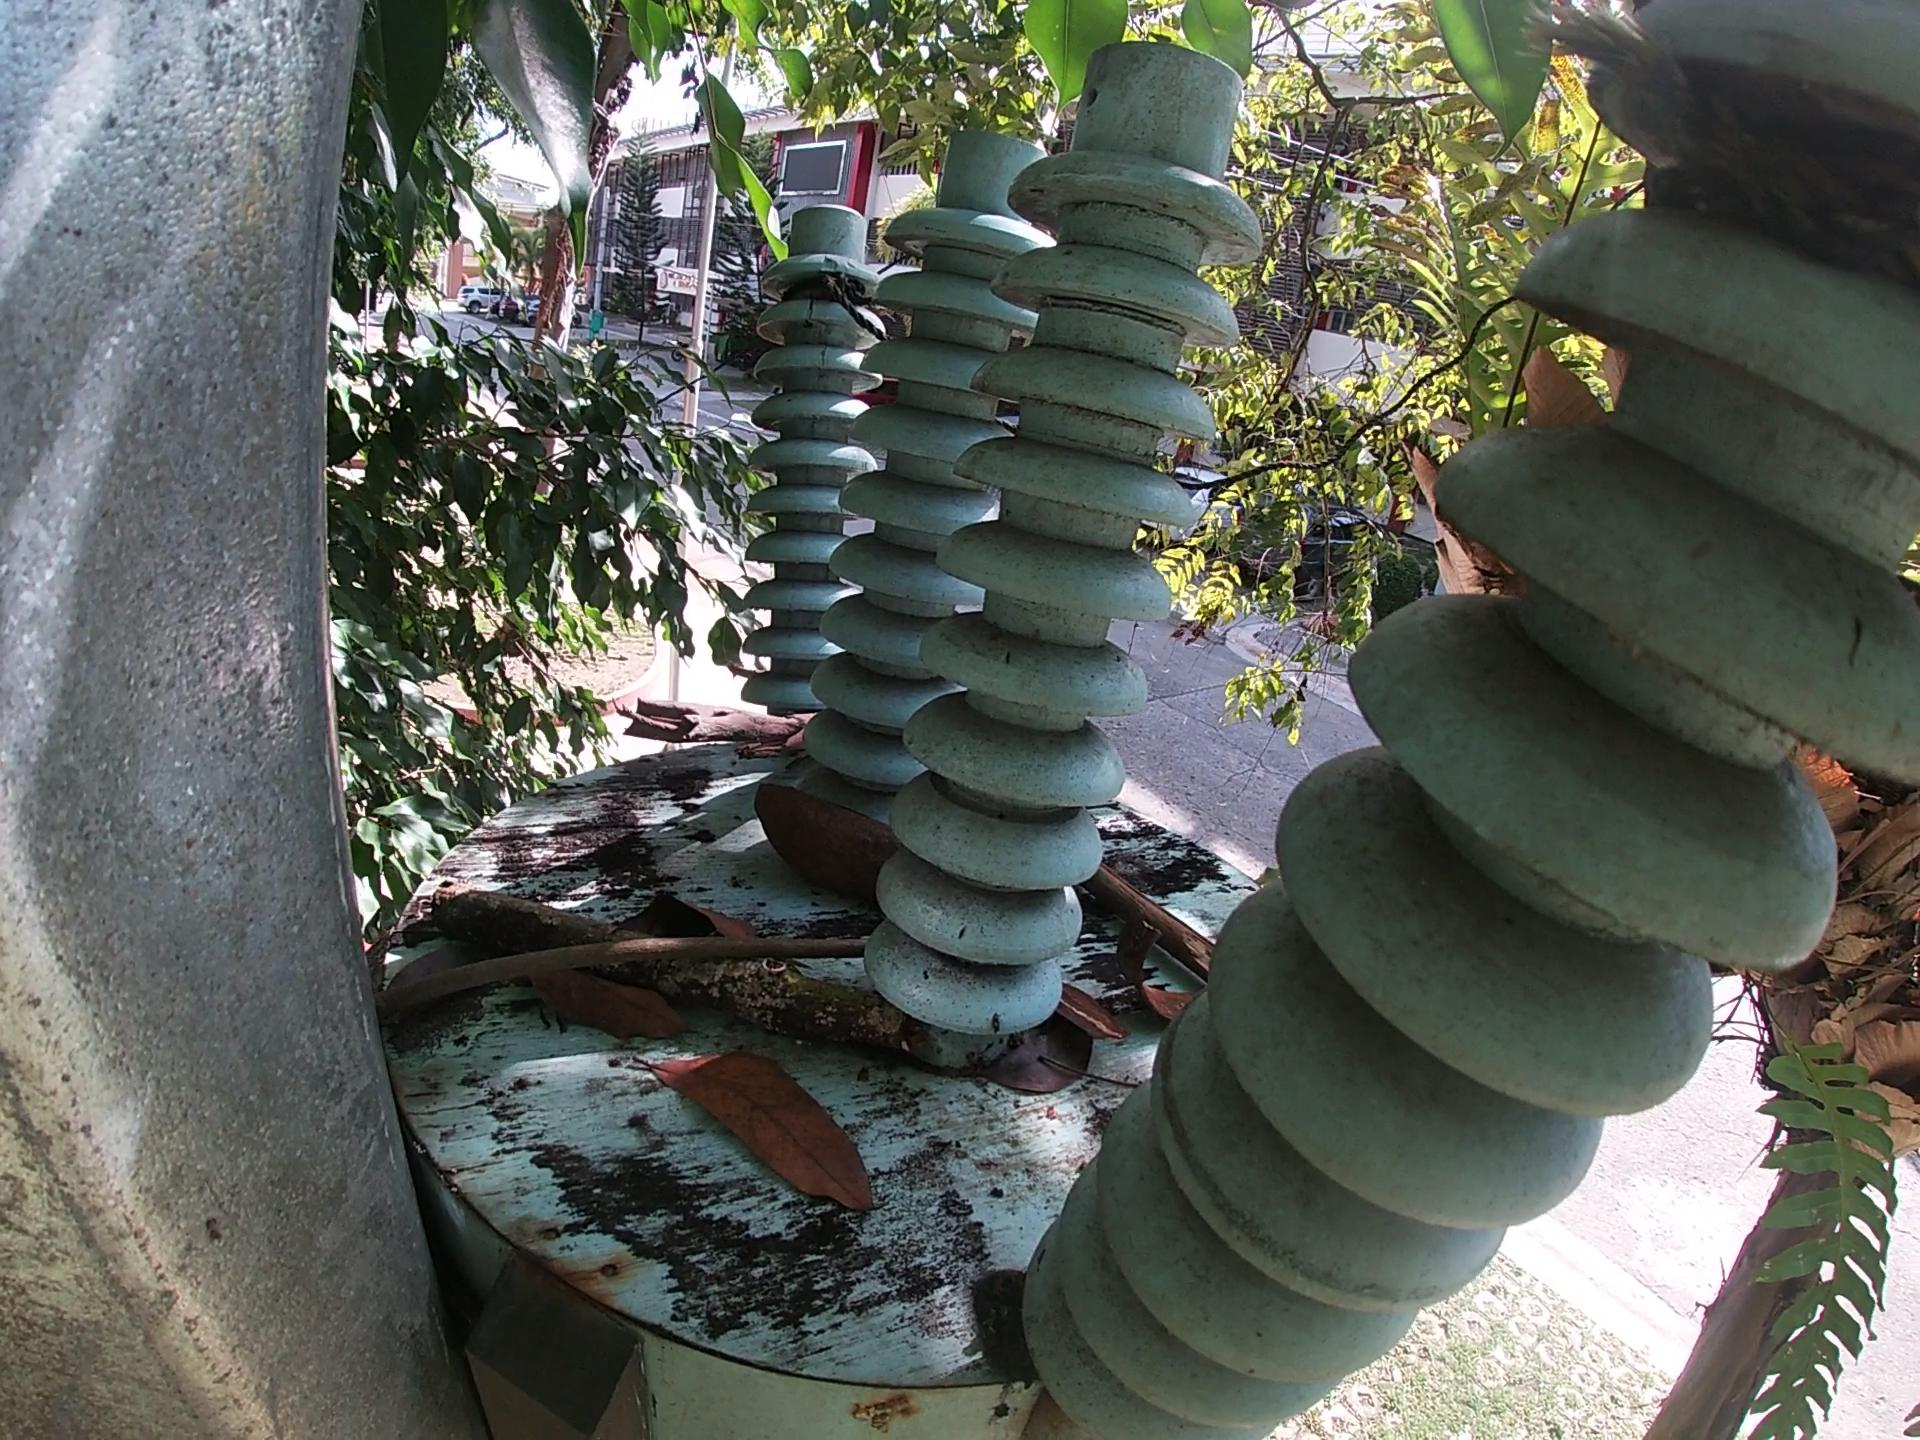leaf: (624, 1053, 883, 1218), (523, 968, 695, 1042), (955, 1026, 1101, 1107), (617, 897, 756, 936)
mahogany fruit: (751, 777, 901, 908), (1119, 905, 1194, 1024), (1055, 983, 1129, 1044)
tree branch: (429, 877, 909, 1054), (367, 932, 872, 1023), (1079, 862, 1219, 985), (609, 697, 815, 759)
